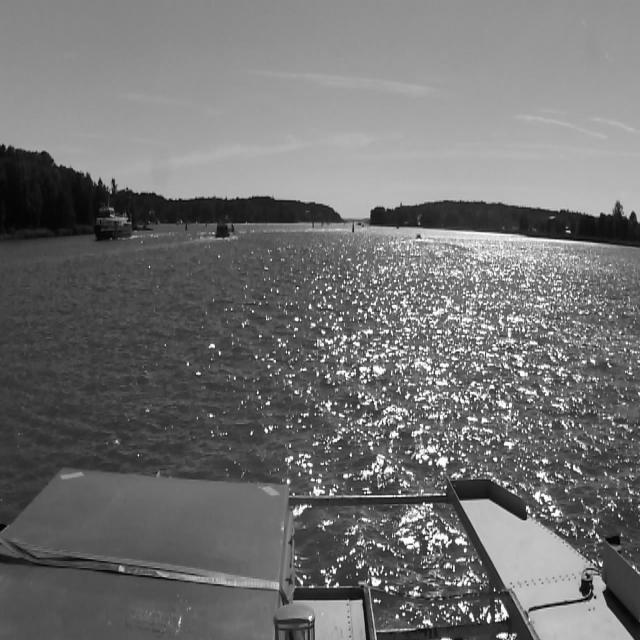buoy: (352, 220, 354, 232), (185, 221, 187, 231), (312, 222, 314, 228), (205, 222, 207, 228)
ship: (94, 207, 132, 241), (215, 221, 235, 239), (416, 234, 422, 239)
